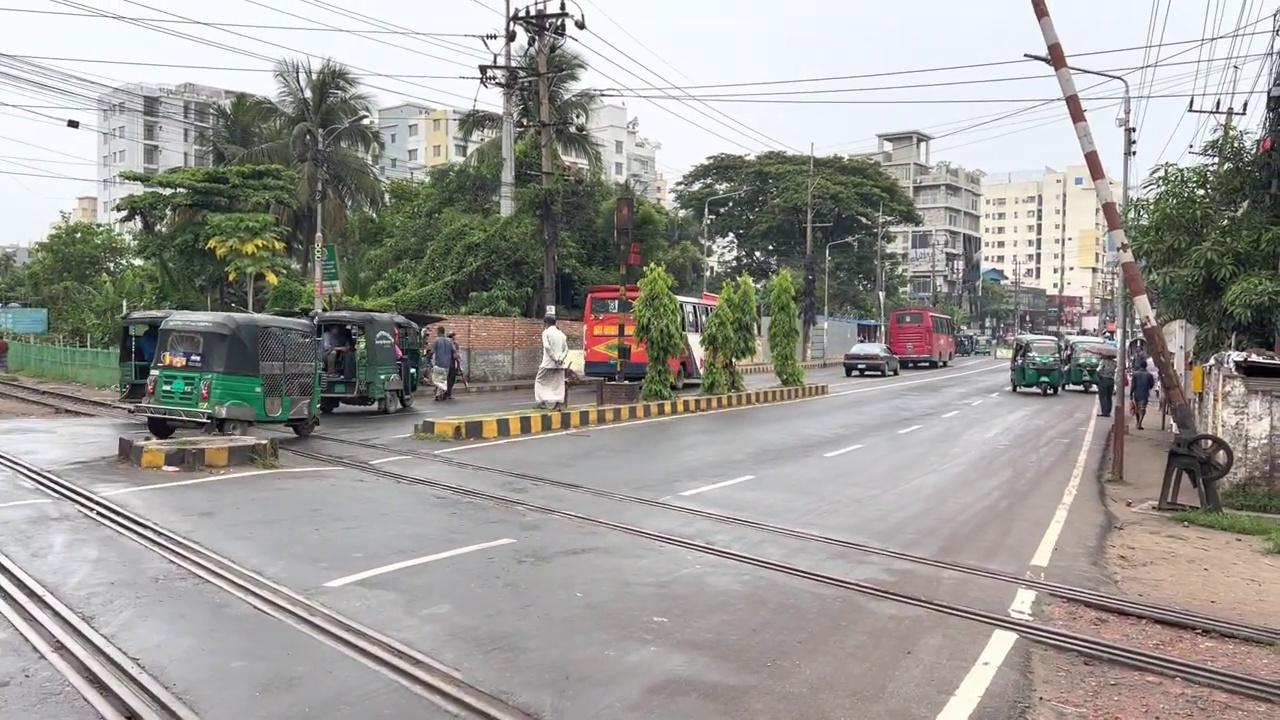Bollard: (842, 342, 899, 377)
Car: (417, 380, 829, 442)
Fence: (533, 313, 568, 410)
Garbage: (1027, 1, 1222, 510)
Motorcycle: (0, 448, 535, 718)
Railroad-crossing: (214, 55, 388, 310), (455, 34, 606, 317), (630, 259, 685, 401), (697, 272, 758, 394), (765, 267, 805, 385)
Rickshaw: (134, 308, 322, 438), (582, 283, 725, 388)
